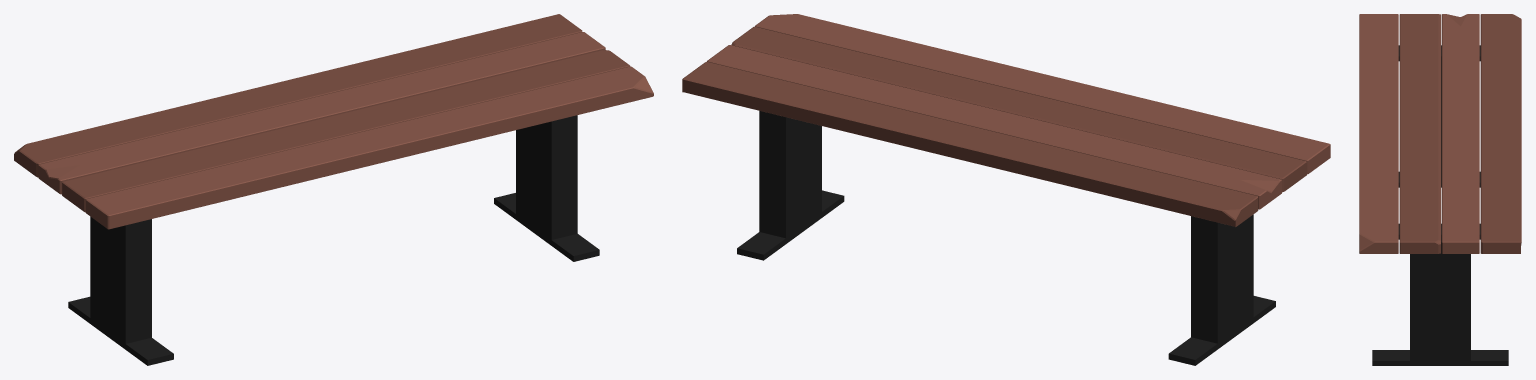
Rendered from Desktop.fbx.
3 renders of one model, left to right at view 1: azimuth 30°, elevation 25°; view 2: azimuth 150°, elevation 25°; view 3: azimuth 270°, elevation 25°, orthographic. The views are drawn at different scales.
Parts seen in each view (by area): view 1: Desktop; view 2: Desktop; view 3: Desktop.
Boxes of the visible parts, x1,y1,x2,y2 form: Desktop: (14, 14, 653, 365); Desktop: (682, 14, 1330, 365); Desktop: (1359, 14, 1521, 365).
Size of the model in its own units: 200 by 58.5 by 60.
